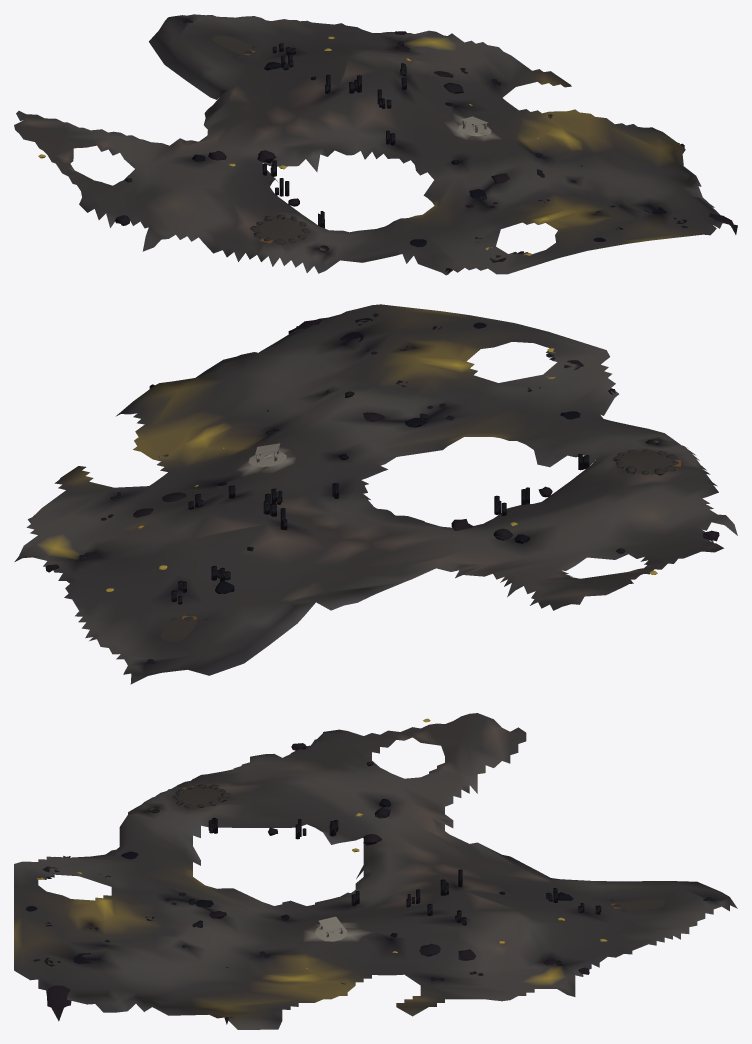
Rendered from ash_isl_hot_spring_lod1.glb.
The picture shows the model from 3 angles, top to bottom: view 1: azimuth 30°, elevation 25°; view 2: azimuth 150°, elevation 25°; view 3: azimuth 270°, elevation 25°; orthographic projection. The views are drawn at different scales.
Parts seen in each view (by area): view 1: ash_isl_hot_spring_lod1; view 2: ash_isl_hot_spring_lod1; view 3: ash_isl_hot_spring_lod1.
Part boxes in pixels (x1,y1,x2,y2): ash_isl_hot_spring_lod1: (14,14,737,275); ash_isl_hot_spring_lod1: (14,304,737,684); ash_isl_hot_spring_lod1: (14,713,737,1029).
Bounding box in the file's own units: 152 × 18.75 × 178.
